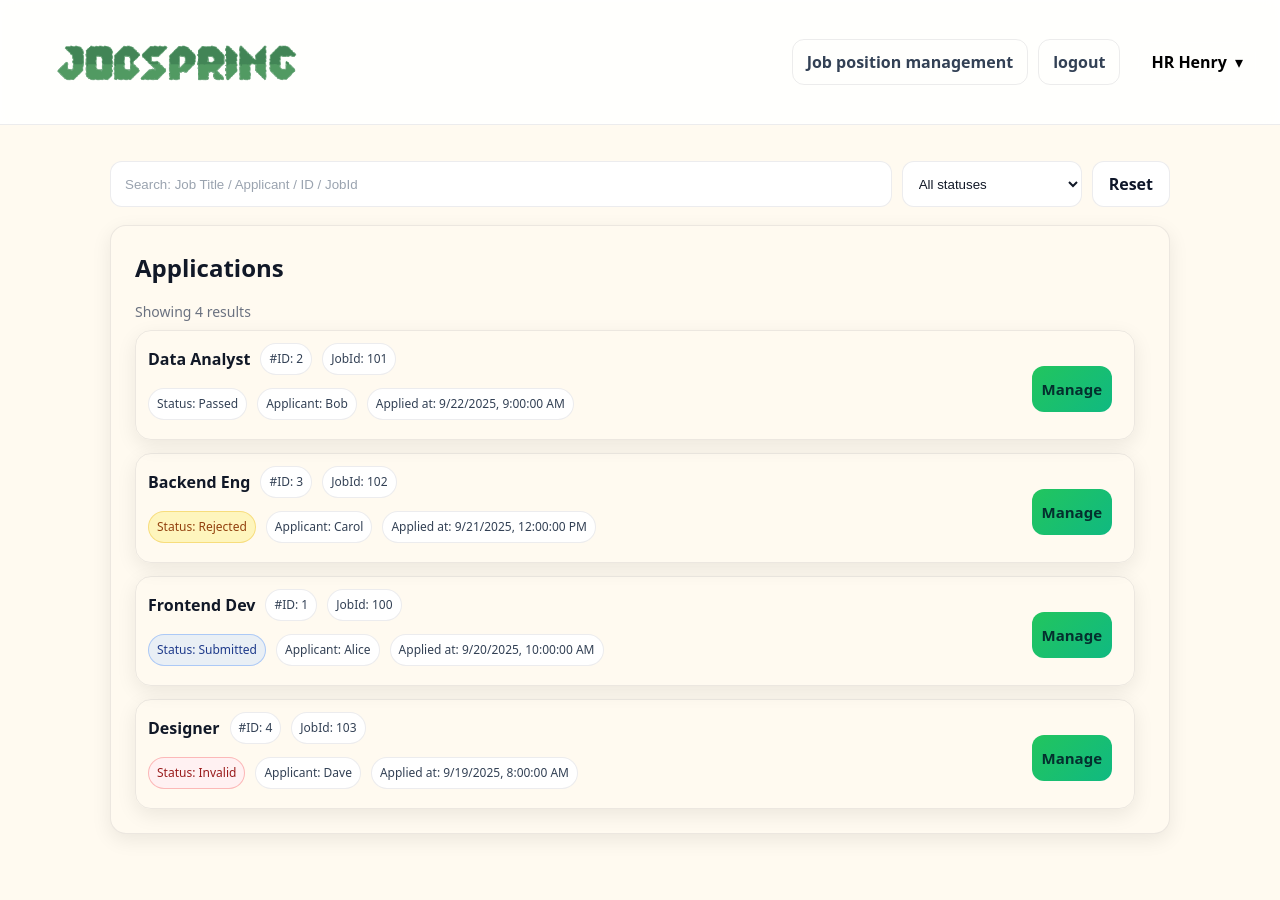
Test: keyword search filters by job title / applicant / id / jobId
Expected: the text "Showing 4 results" is shown, [135,302,251,321]
Type "alice" into the field with placeholder "Search: Job Title / Applicant / ID / JobId" at (501, 184), box [110,161,892,207]
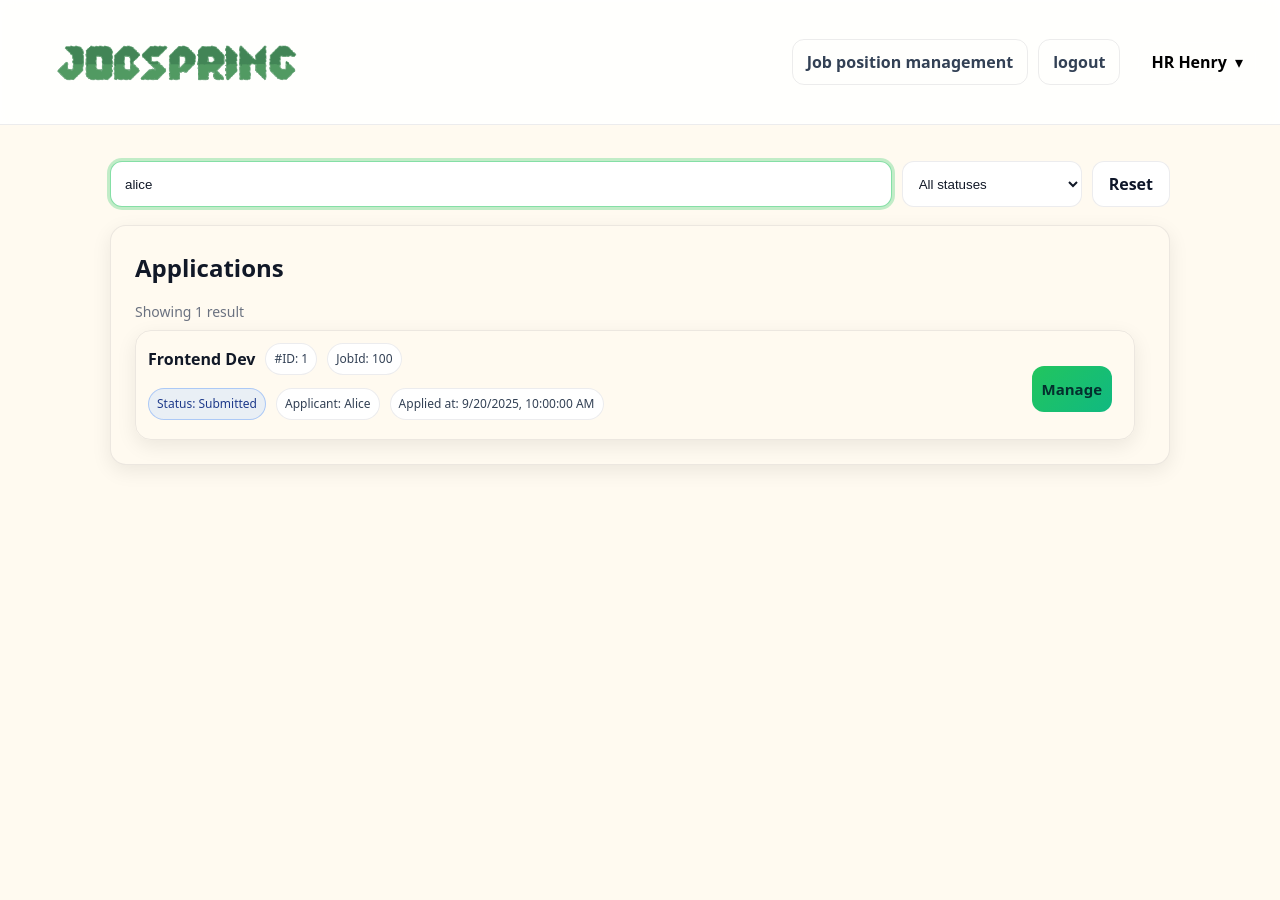
Expected: the text "Frontend Dev" is shown, [148,347,255,371]
Now the text "Showing 1 result" is shown, box [135,302,244,321]
# job title
Replace the text in the field with placeholder "Search: Job Title / Applicant / ID / JobId" with "backend" at (501, 184), box [110,161,892,207]
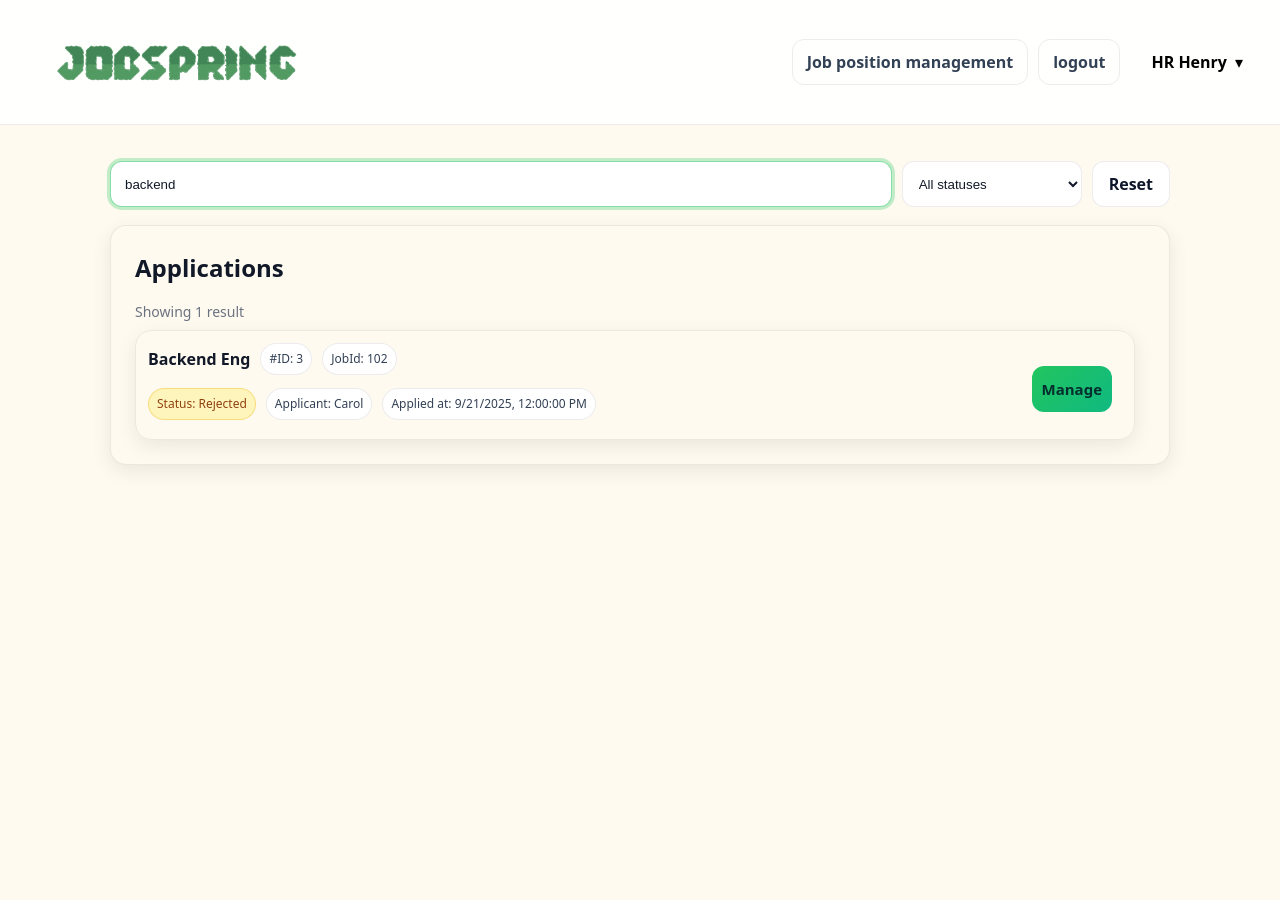
Expected: the text "Showing 1 result" is shown, [135,302,244,321]
Now the text "Backend Eng" is shown, box [148,347,250,371]
Replace the text in the field with placeholder "Search: Job Title / Applicant / ID / JobId" with "4" at (501, 184), box [110,161,892,207]
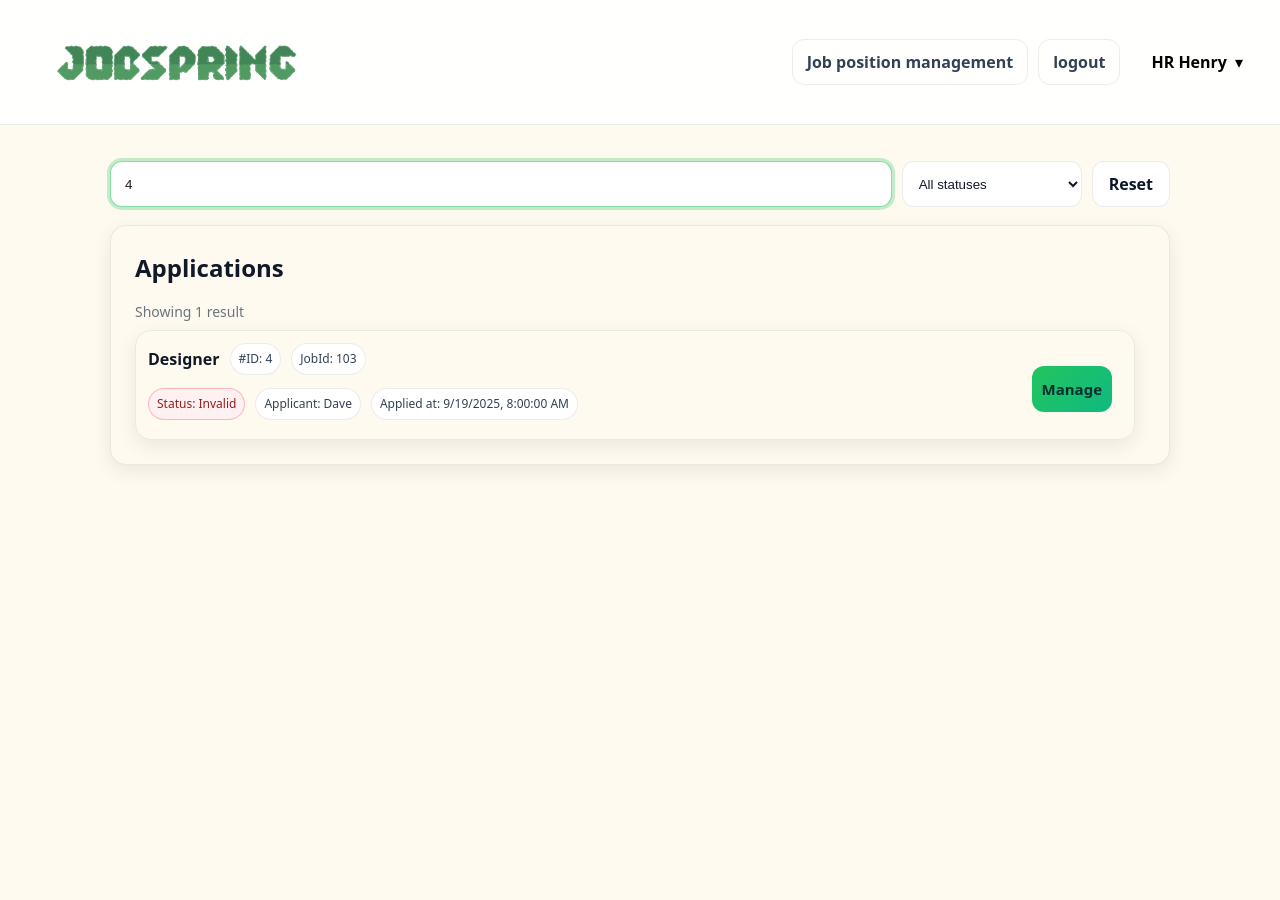
Expected: the text "Showing 1 result" is shown, [135,302,244,321]
Now the text "Designer" is shown, box [148,347,220,371]
Click the button "Reset" at (1131, 184), box [1092,161,1170,207]
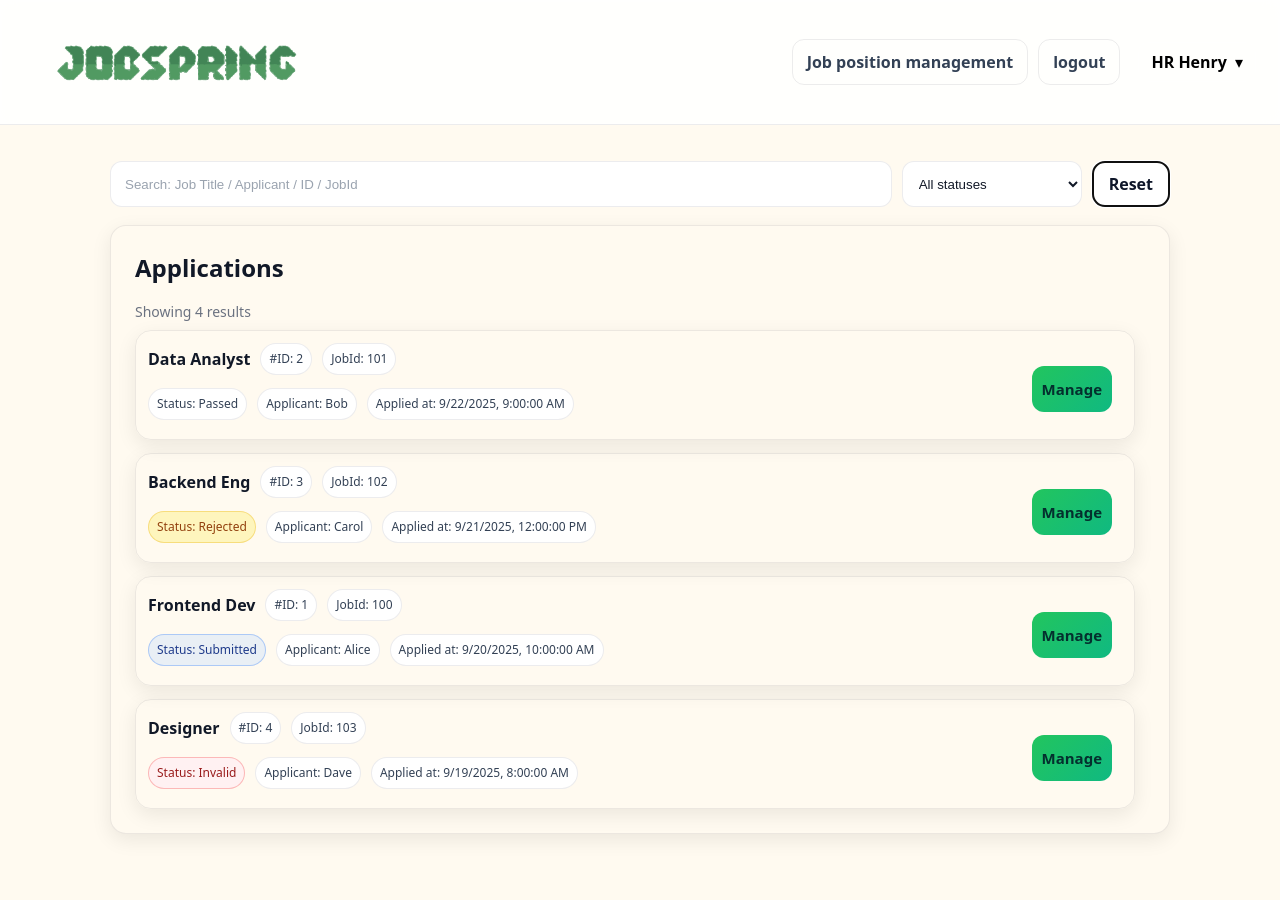
Now the text "Showing 4 results" is shown, box [135,302,251,321]
